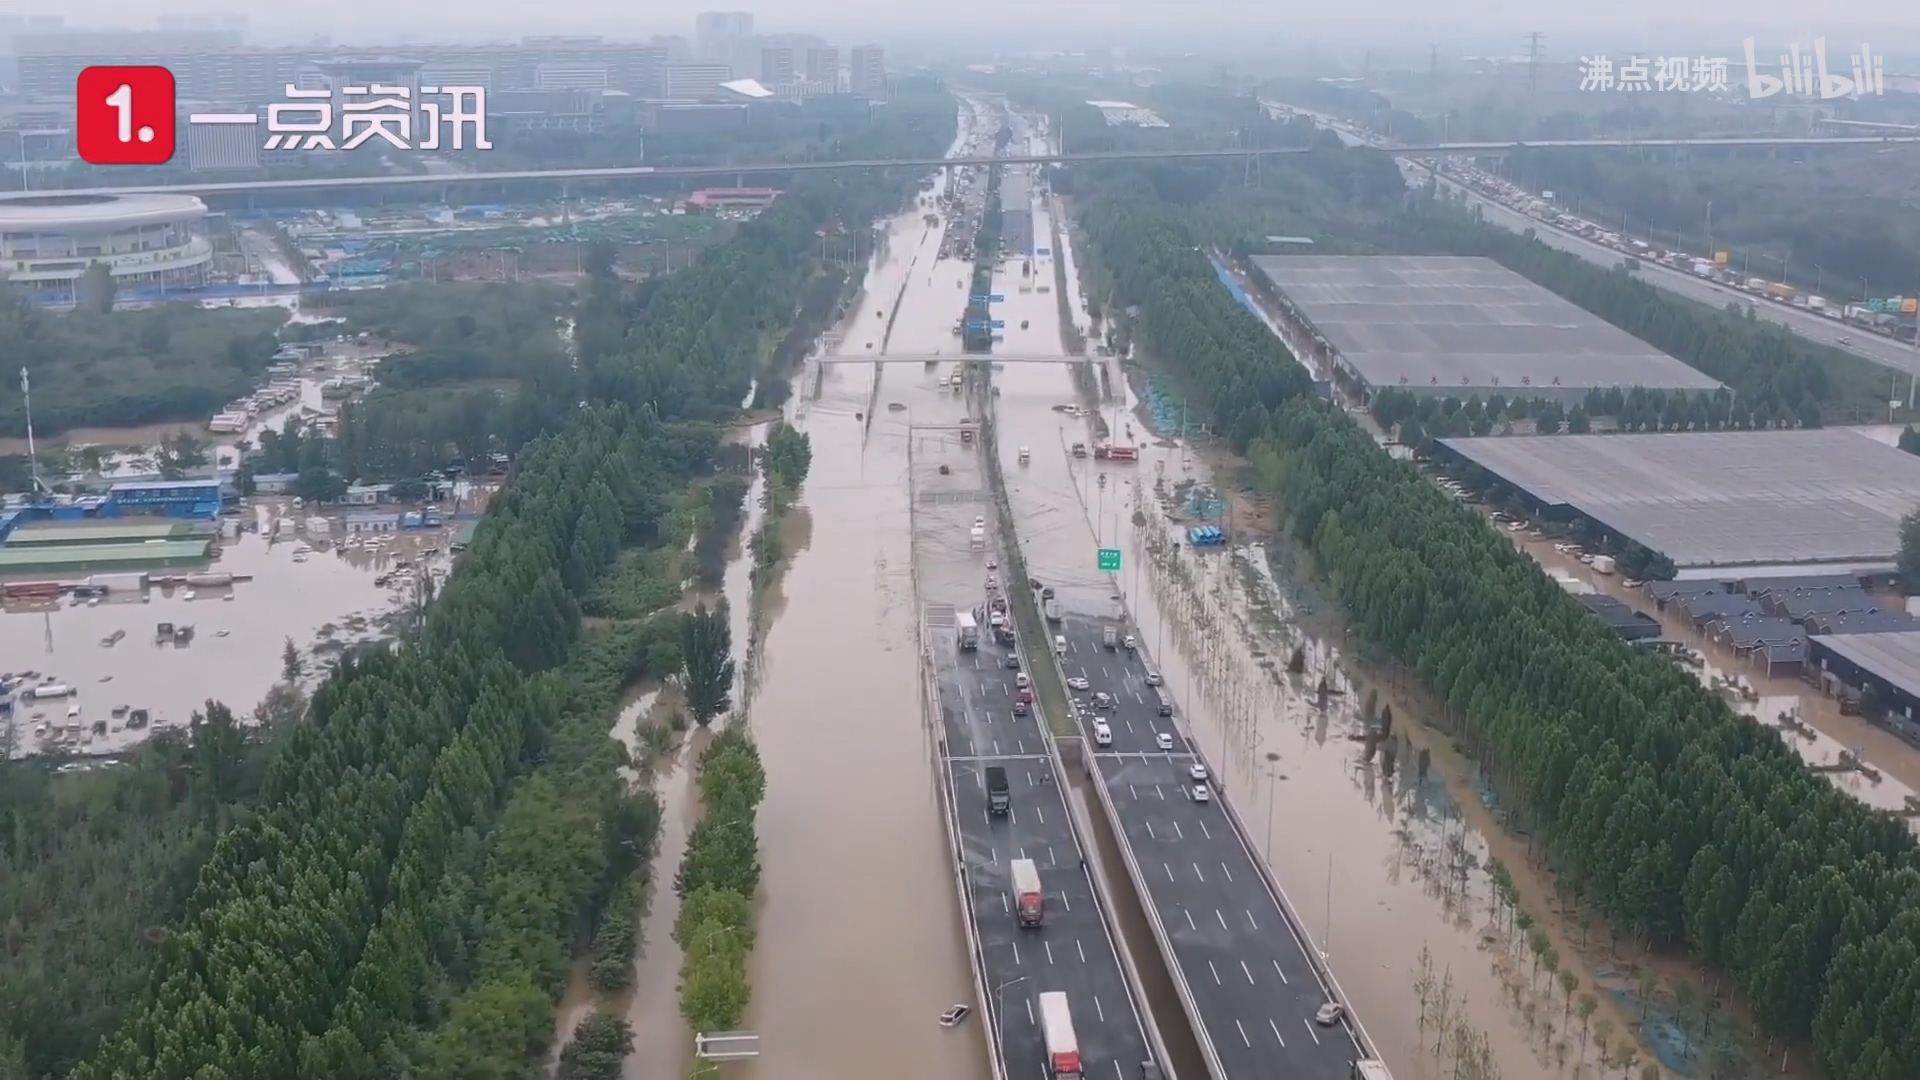puddle: (745, 444, 1018, 1075), (1183, 603, 1523, 986)
